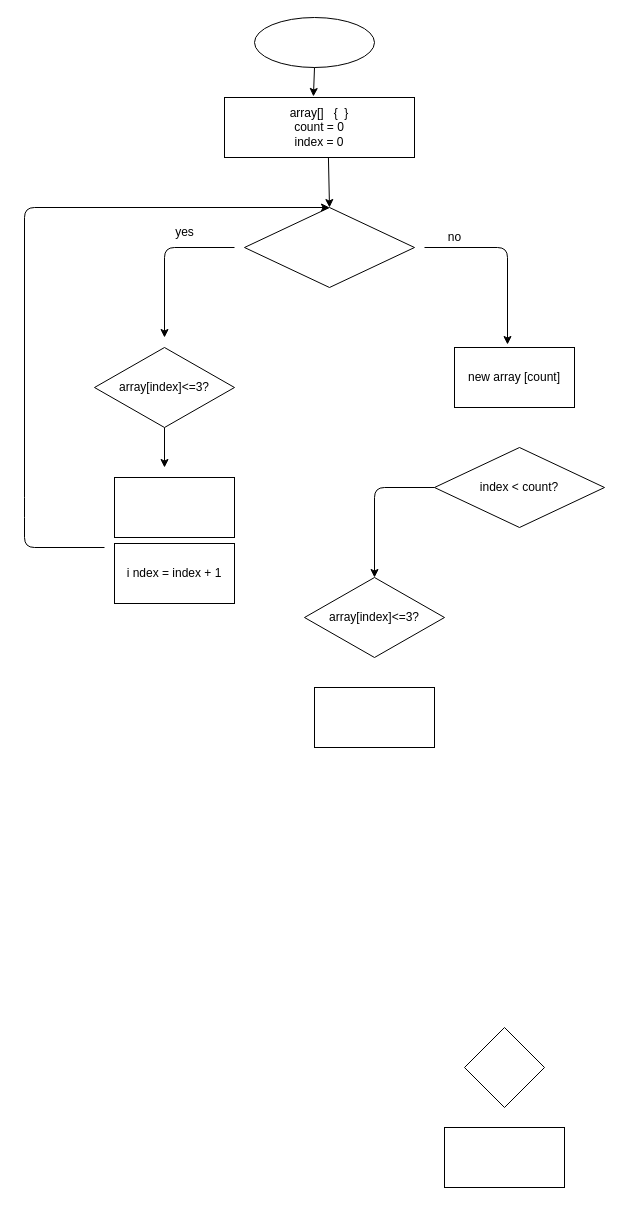
Some shapes in this 622 by 1205 pixel diagram are drawn without their labels. Here are the shapes that lost their labels. From the top down, the centre of each, then its label:
At point (314, 42): "start".
At point (329, 247): "index<Length.array?".
At point (174, 507): "count = count+1".
